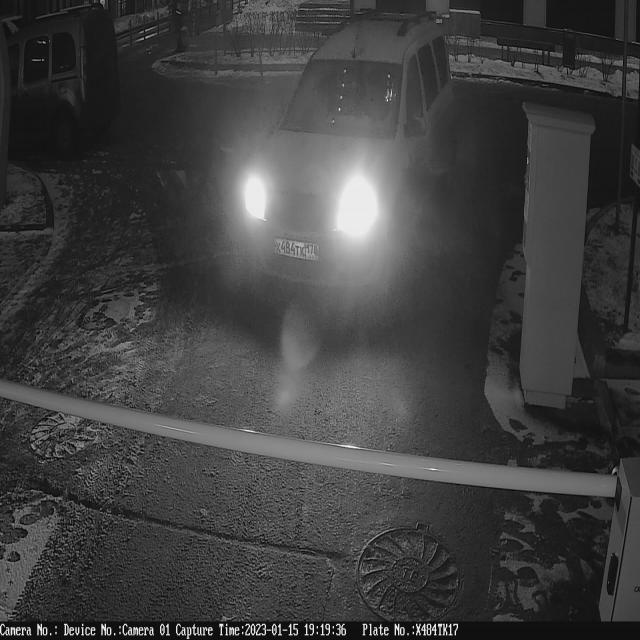car-plate-numbers: (273, 233, 323, 267)
